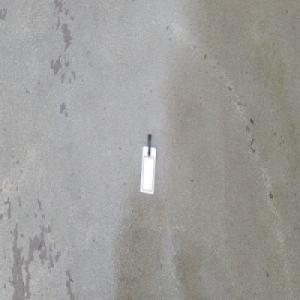LuggageTag: (139, 133, 157, 196)
